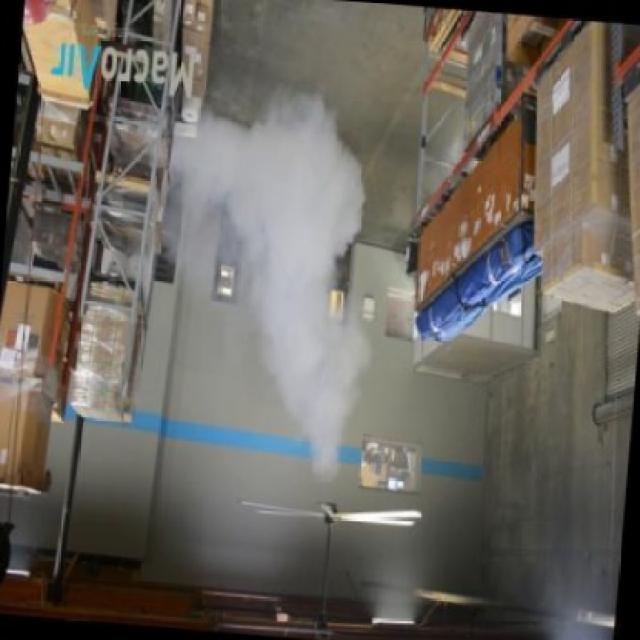smoke: (158, 87, 405, 490)
